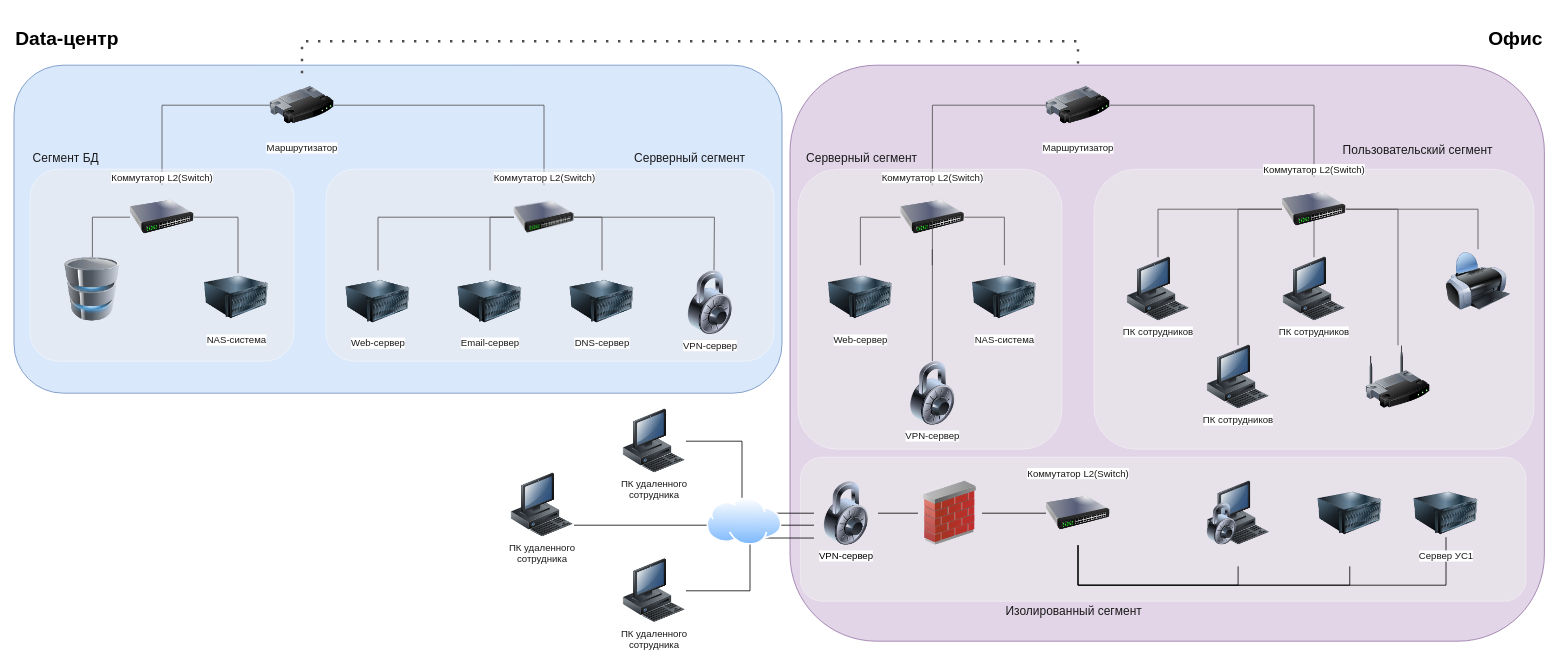
The diagram is 1558 pixels wide and 665 high, and some of its shapes have lost their labels. Each missing label, with the centre of its shape:
Access Point: point (1398, 377)
Cisco ASA (Front Firewall): point (950, 513)
DB-сервер: point (92, 289)
ISP: point (744, 521)
МФУ: point (1478, 281)
Сервер УС2: point (1350, 513)
Терминальный сервер: point (1238, 513)
